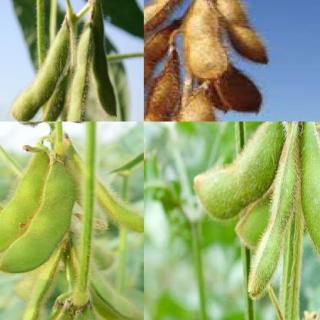soya: (247, 124, 299, 298), (193, 121, 282, 222), (0, 163, 75, 274), (11, 24, 70, 120), (0, 156, 48, 256), (212, 0, 270, 64), (185, 0, 229, 79), (17, 248, 62, 320), (90, 6, 118, 118), (302, 127, 319, 308), (144, 0, 188, 64), (65, 28, 93, 121), (144, 26, 171, 121), (93, 272, 143, 320), (97, 180, 143, 232), (144, 68, 181, 120), (176, 94, 239, 120), (26, 92, 66, 121)
